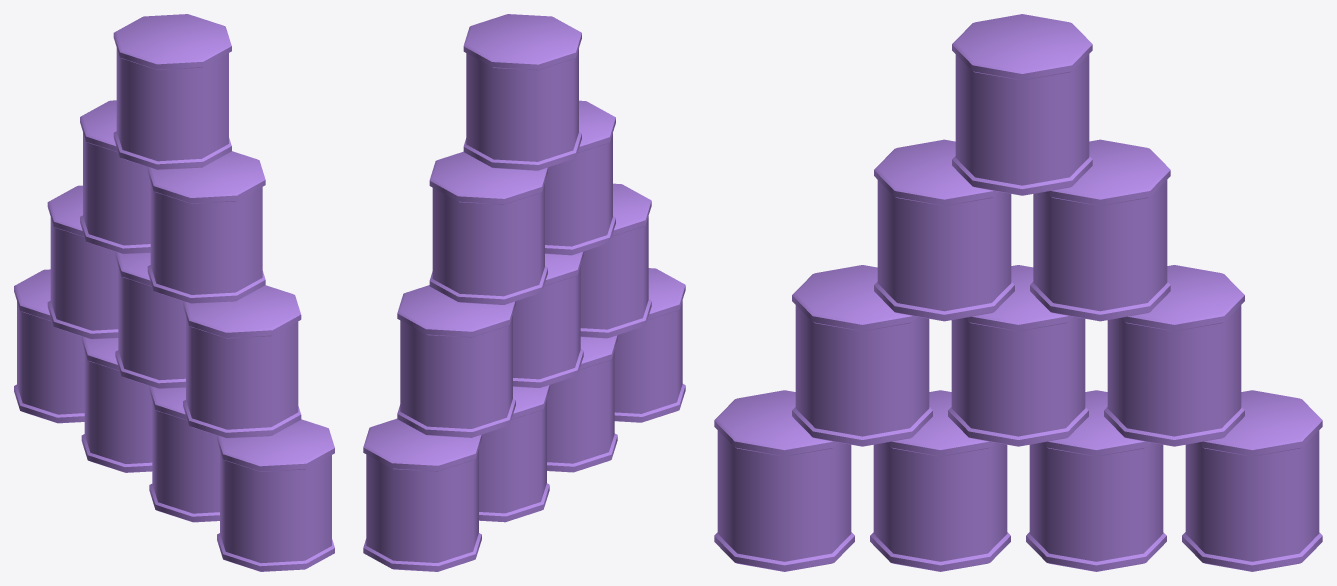
The model's file is 3D_BoiteChambouLapin.fbx.
The picture shows the model from 3 angles, left to right: view 1: azimuth 30°, elevation 25°; view 2: azimuth 150°, elevation 25°; view 3: azimuth 270°, elevation 25°; orthographic projection. The views are drawn at different scales.
Parts seen in each view (by area): view 1: BoiteMetal.Low; view 2: BoiteMetal.Low; view 3: BoiteMetal.Low.
Part boxes in pixels (x1=…): BoiteMetal.Low: x1=14, y1=14, x2=334, y2=571; BoiteMetal.Low: x1=363, y1=14, x2=685, y2=571; BoiteMetal.Low: x1=714, y1=14, x2=1322, y2=571.
Size of the model in its own units: 36.13 by 142 by 156.
